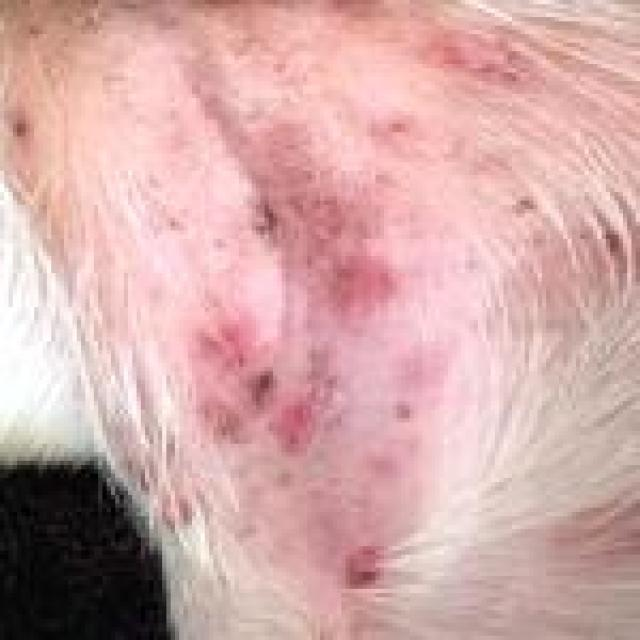fungal infection: (186, 326, 324, 454), (232, 462, 351, 544), (406, 32, 544, 88), (322, 247, 411, 321), (497, 179, 558, 249), (381, 339, 465, 386), (159, 205, 229, 260), (109, 436, 180, 486), (239, 191, 302, 244), (377, 389, 433, 430), (337, 547, 393, 587), (160, 484, 203, 536), (360, 440, 413, 475), (373, 116, 427, 150), (579, 218, 626, 256), (8, 97, 33, 143), (26, 15, 59, 44)
